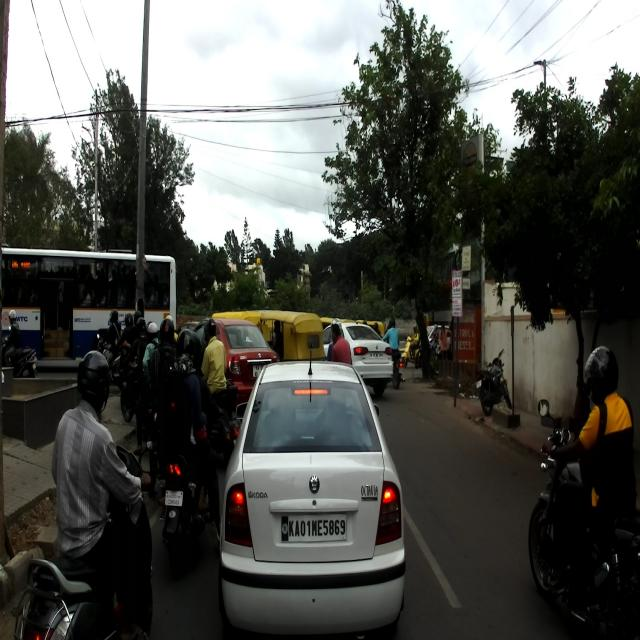Car: (322, 321, 394, 395)
Car_Maruti-Suzuki: (200, 317, 280, 417)
Car_Skoda: (217, 351, 407, 638)
bus: (0, 239, 177, 358)
motorcycle_Honda: (474, 348, 511, 415)
motorcycle_RoyalEnfield: (526, 400, 640, 639), (391, 350, 405, 390)
motorcycle_bajaj: (158, 406, 225, 562)
scooter: (12, 442, 152, 638), (204, 379, 240, 462), (401, 335, 423, 368)
